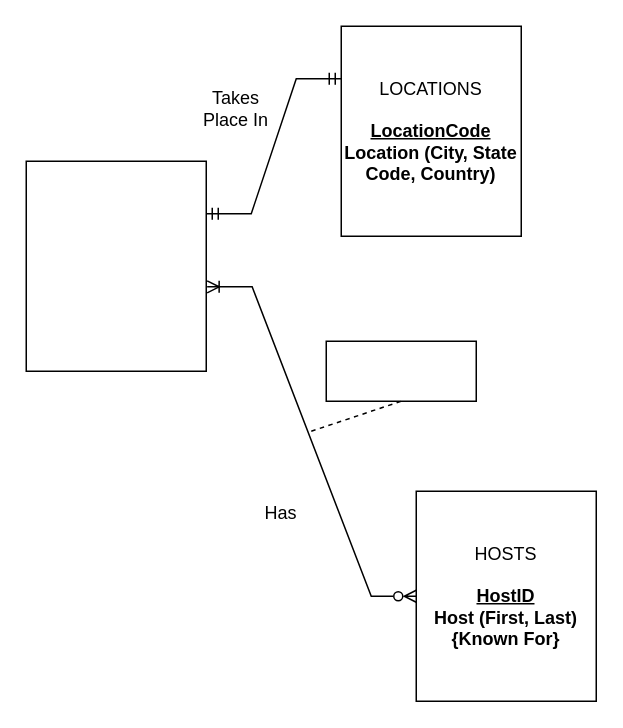
The diagram is 623 pixels wide and 728 high, and some of its shapes have lost their labels. The shapes that lost their labels are listed below. From the top down, each one's centre as x and y in pixels, then its label:
At (115,265): "CEREMONIES CeremonyID Date Network Millions of Viewers".
At (400,370): "Times Hosted".
